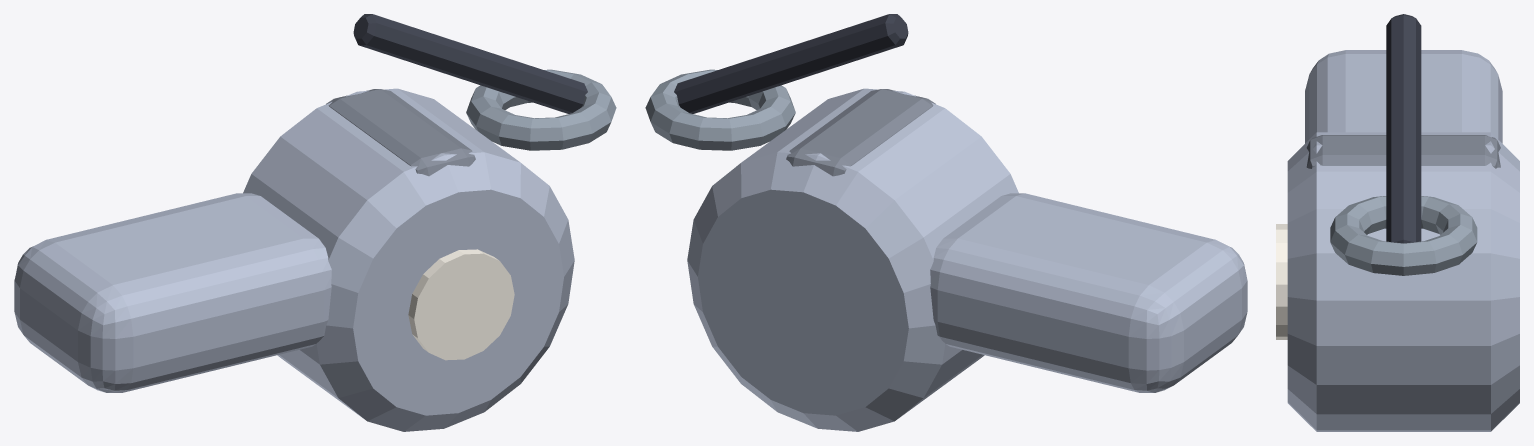
Rendered from whistle.glb.
3 renders of one model, left to right at view 1: azimuth 30°, elevation 25°; view 2: azimuth 150°, elevation 25°; view 3: azimuth 270°, elevation 25°, orthographic.
Parts seen in each view (by area): view 1: whistle; view 2: whistle; view 3: whistle.
Part boxes in pixels (<box>): whistle: <box>14,14,616,431</box>; whistle: <box>645,14,1247,431</box>; whistle: <box>1276,14,1519,431</box>.
Bounding box in the file's own units: 1.11 × 0.7412 × 0.42.
